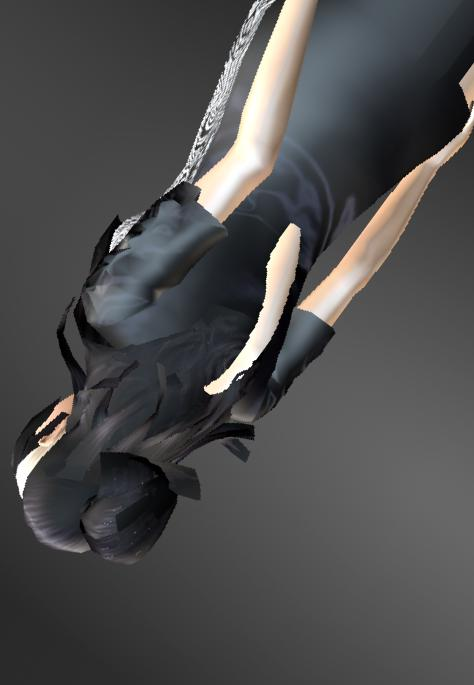clip: (203, 344, 245, 396)
